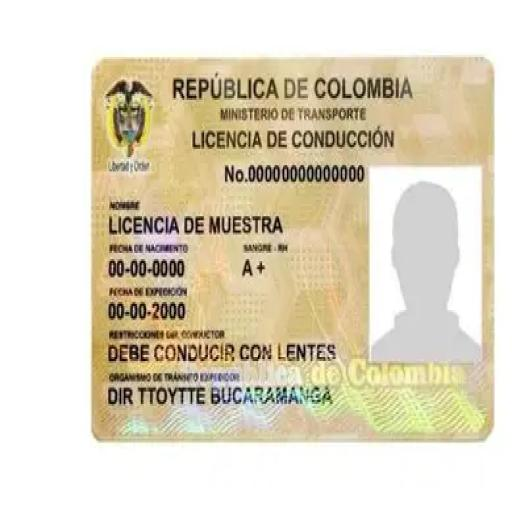colombia: (169, 69, 420, 103)
escudo de colombia: (100, 70, 167, 176)
fechaexpedicion: (101, 298, 198, 322)
fechanacimiento: (103, 257, 197, 285)
foto: (384, 176, 474, 345)
ministerio de transporte: (218, 98, 372, 122)
nombre: (102, 207, 291, 239)
numerolic: (246, 157, 369, 194)
tarjeta conduccion: (92, 58, 492, 439)
titulo licencia: (185, 121, 402, 152)
